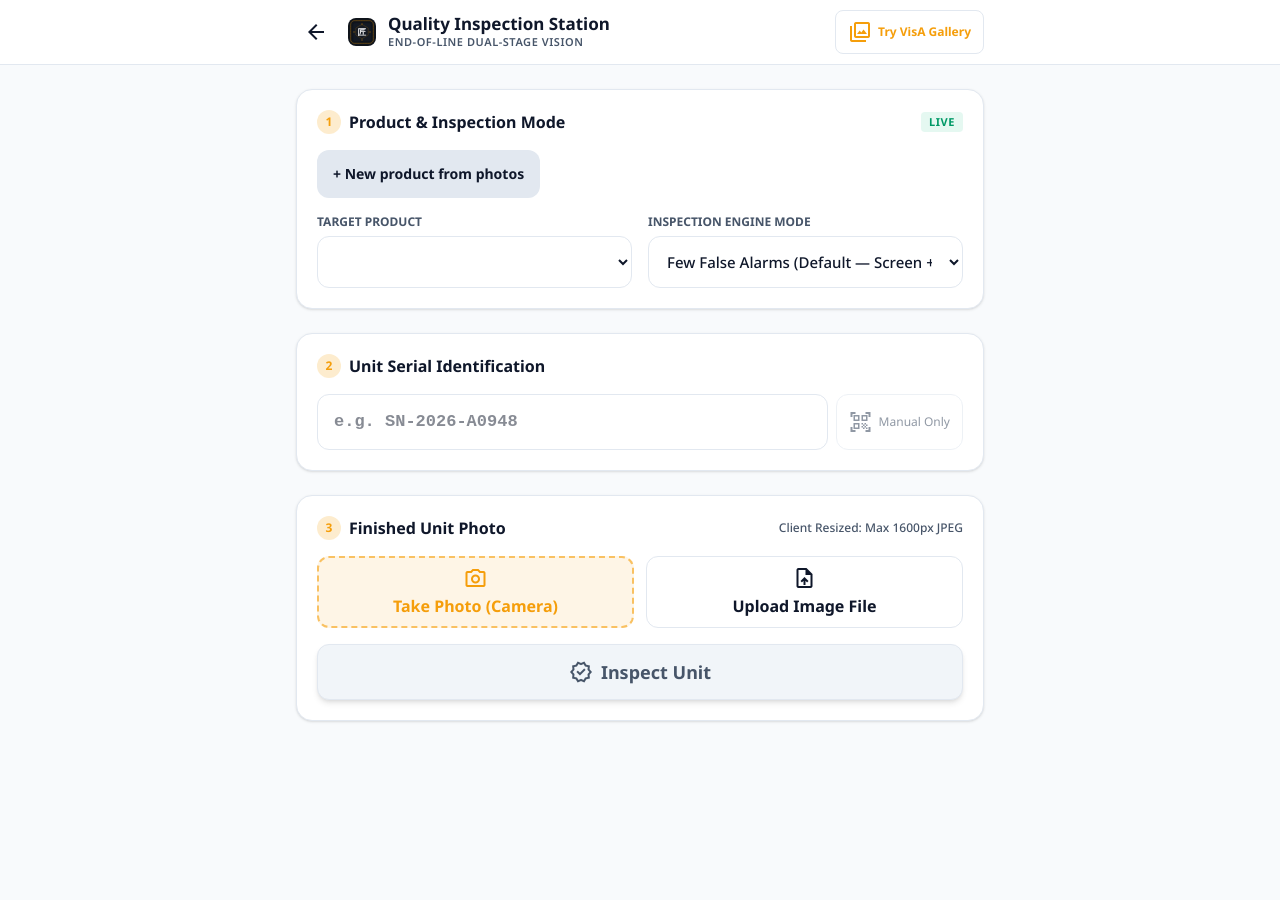
Test: InspectScreen › validates serial input before submission
Expected: the heading "Quality Inspection Station" is shown, [388,13,610,34]
Enter invalid characters and blur
Type "invalid serial with spaces & $" into the field with placeholder "e.g. SN-2026-A0948" at x=572, y=422, box [317,394,828,450]
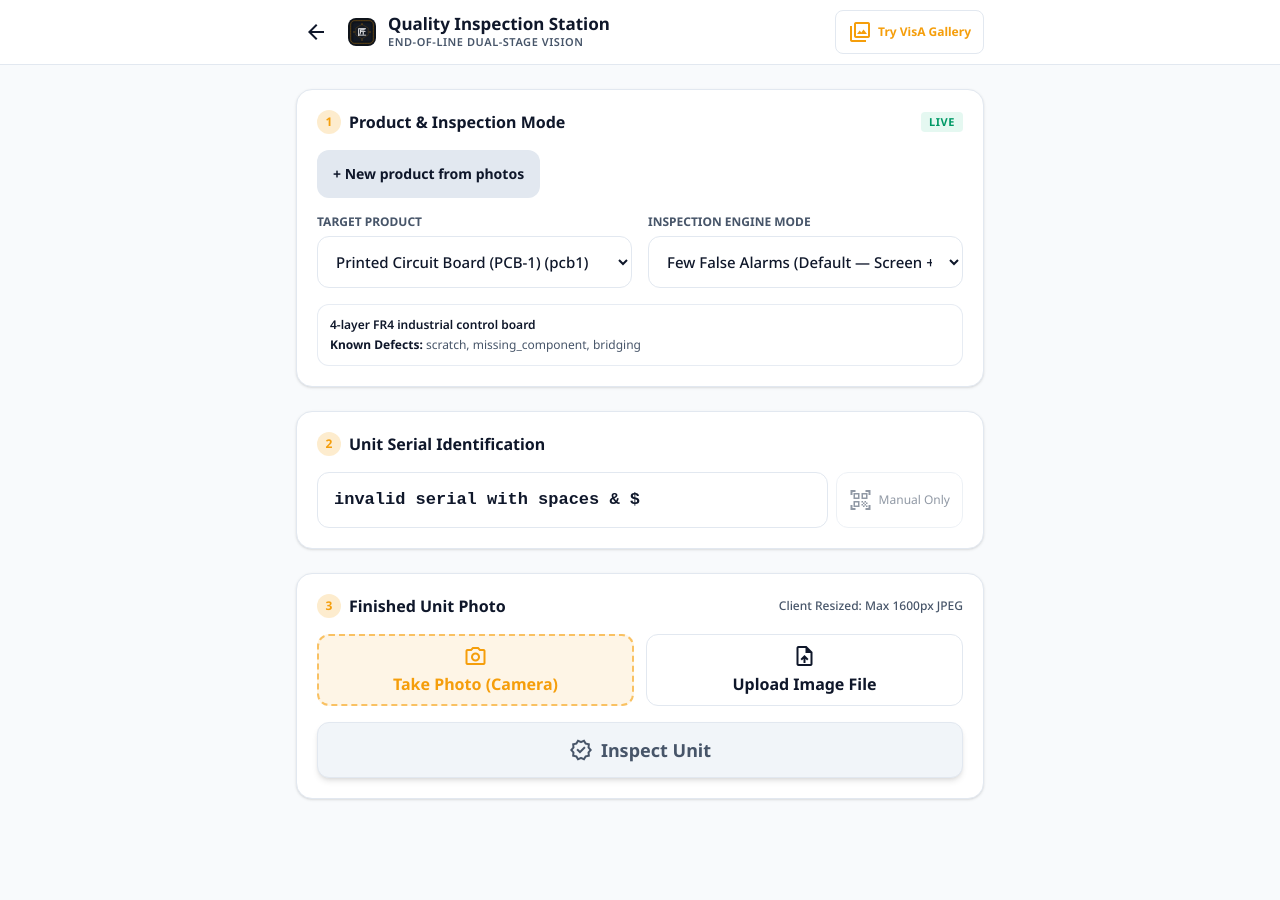
Leave the field with placeholder "e.g. SN-2026-A0948", box [317,472,828,528]
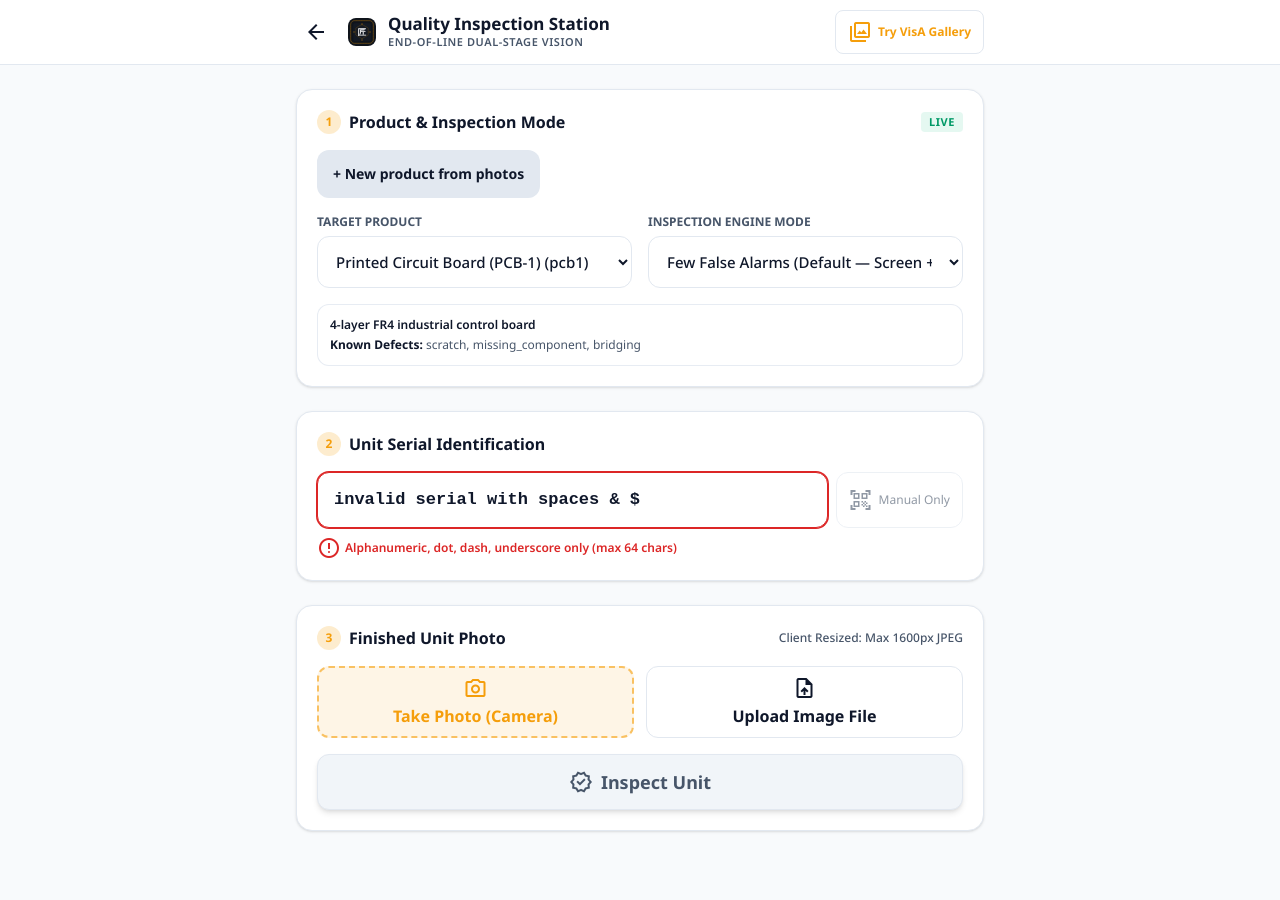
Now the text "Alphanumeric, dot, dash, underscore only (max 64 chars)" is shown, box [317,534,677,562]
